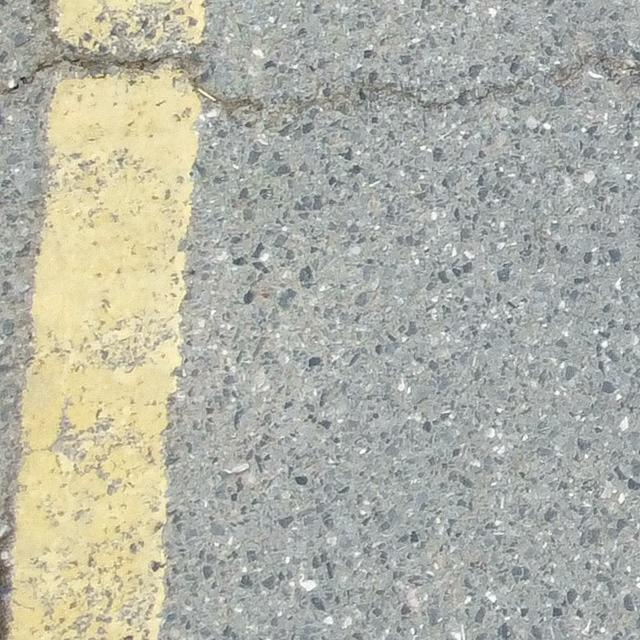TransverseCrack: (1, 1, 640, 115)
